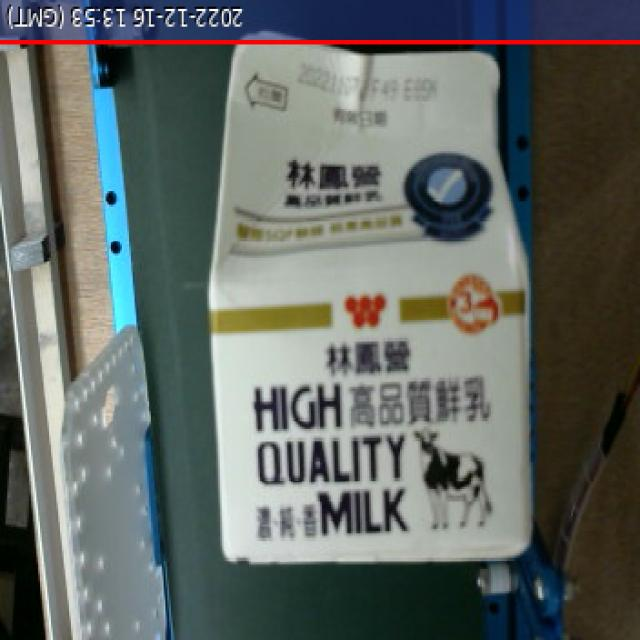non_white_jug: (198, 23, 546, 599)
